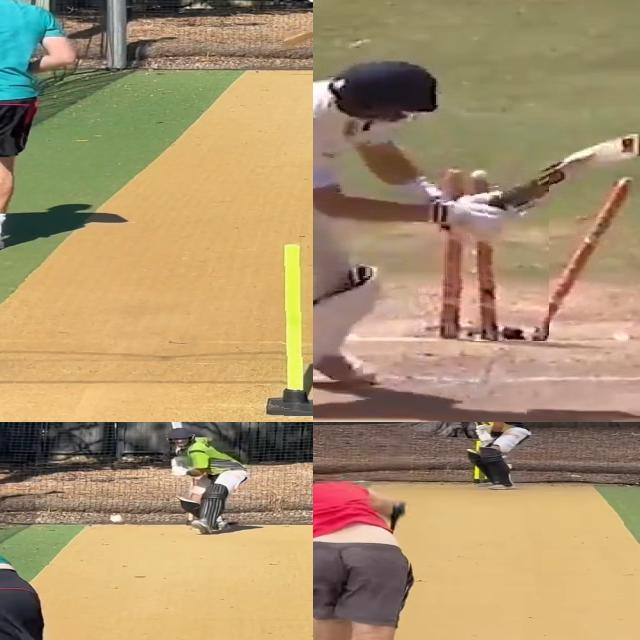Cricket ball: (108, 514, 126, 524), (307, 0, 313, 4)
Stumps: (444, 165, 549, 341), (270, 242, 313, 416)
